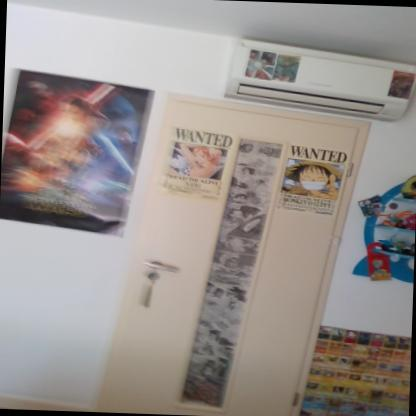closed: (145, 97, 314, 416)
